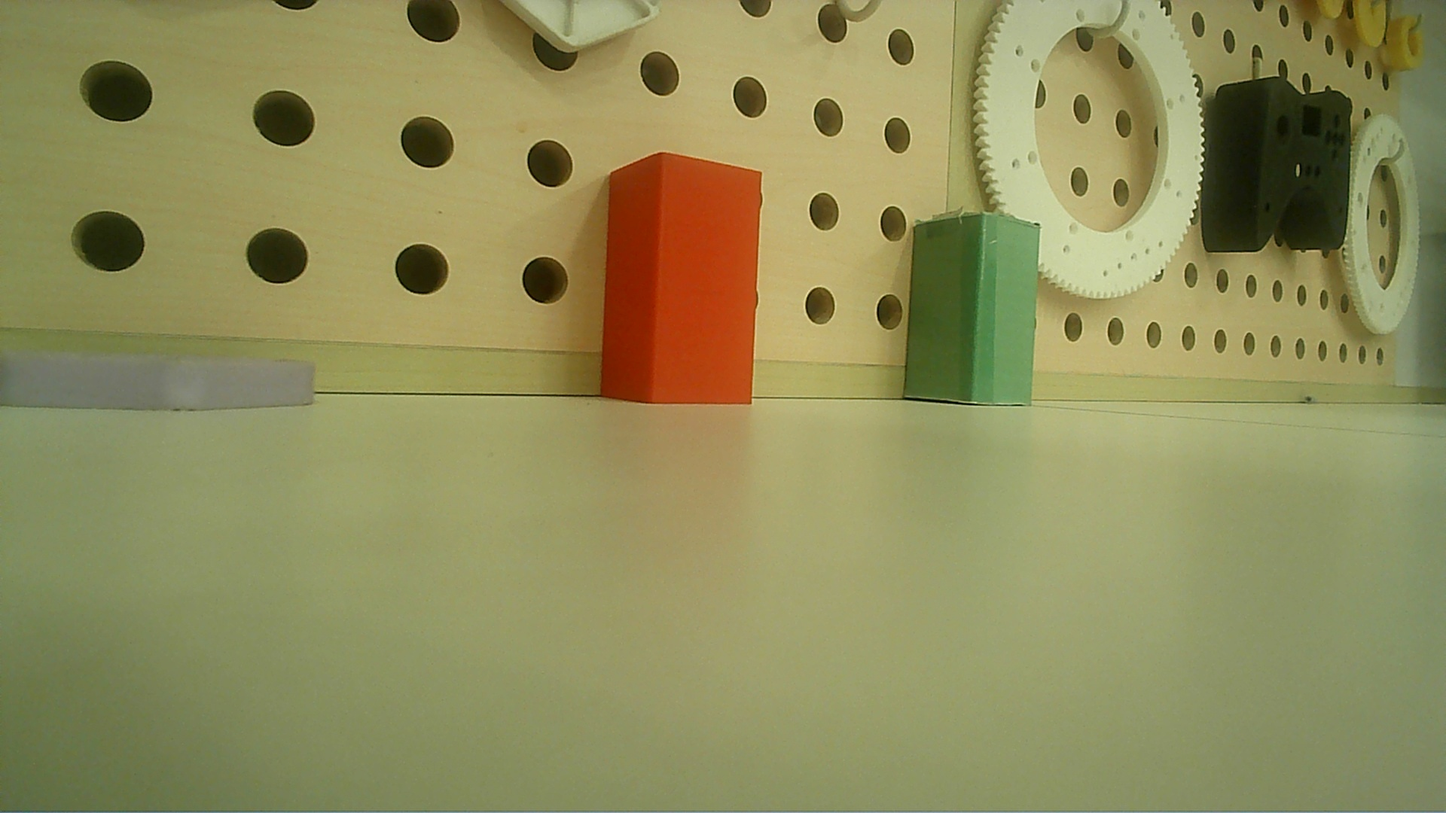red: (583, 138, 786, 425)
